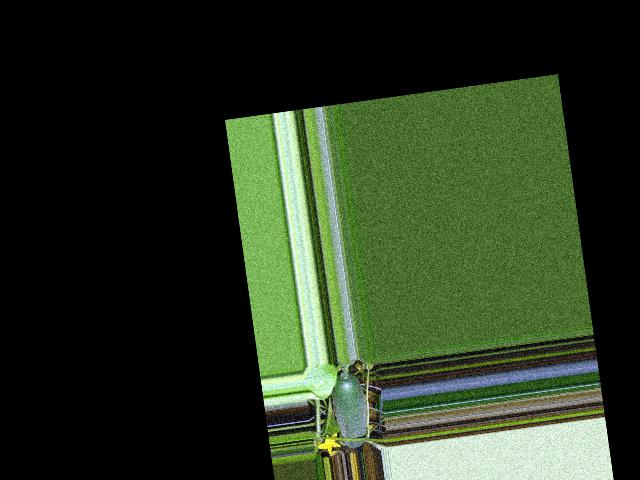cucumber: (329, 369, 372, 449)
